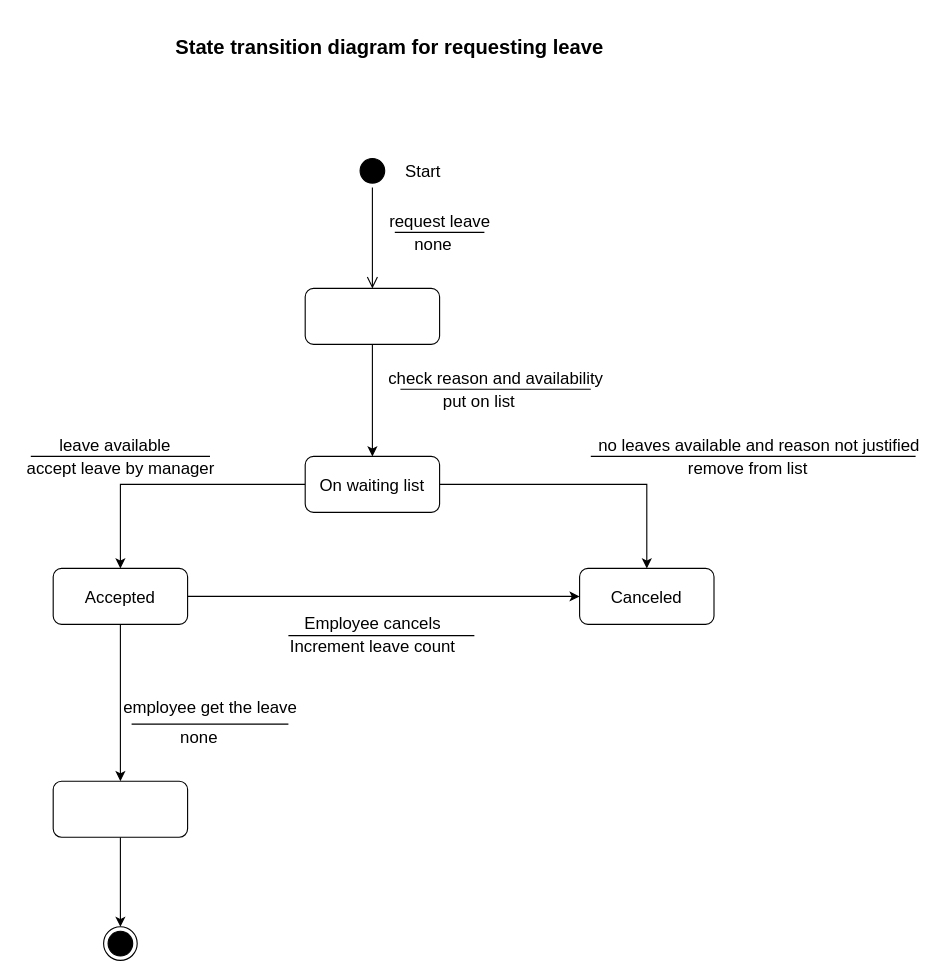
This 945x980 diagram has some shape labels left out. The box of each missing label's shape, as (x1, y1, x2, y2) in pixels:
Request: (304, 287, 440, 344)
Used: (52, 780, 188, 837)
